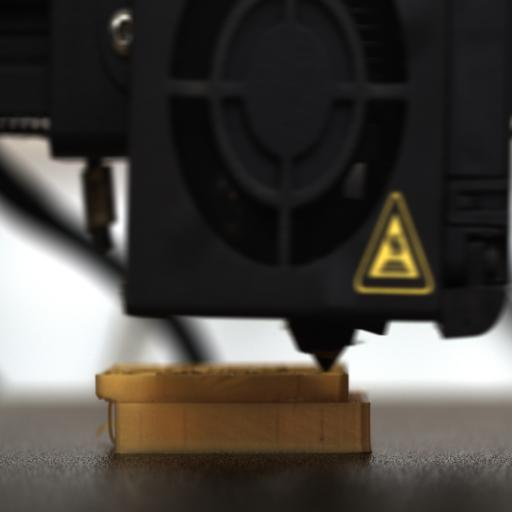layer_shift: (96, 392, 372, 416)
